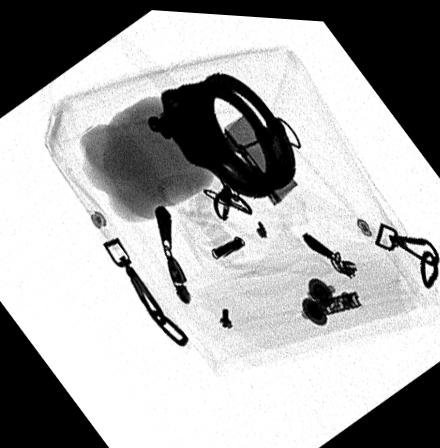HandCuffs: (147, 68, 295, 195)
